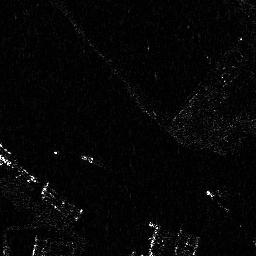ship: (54, 148, 93, 165)
